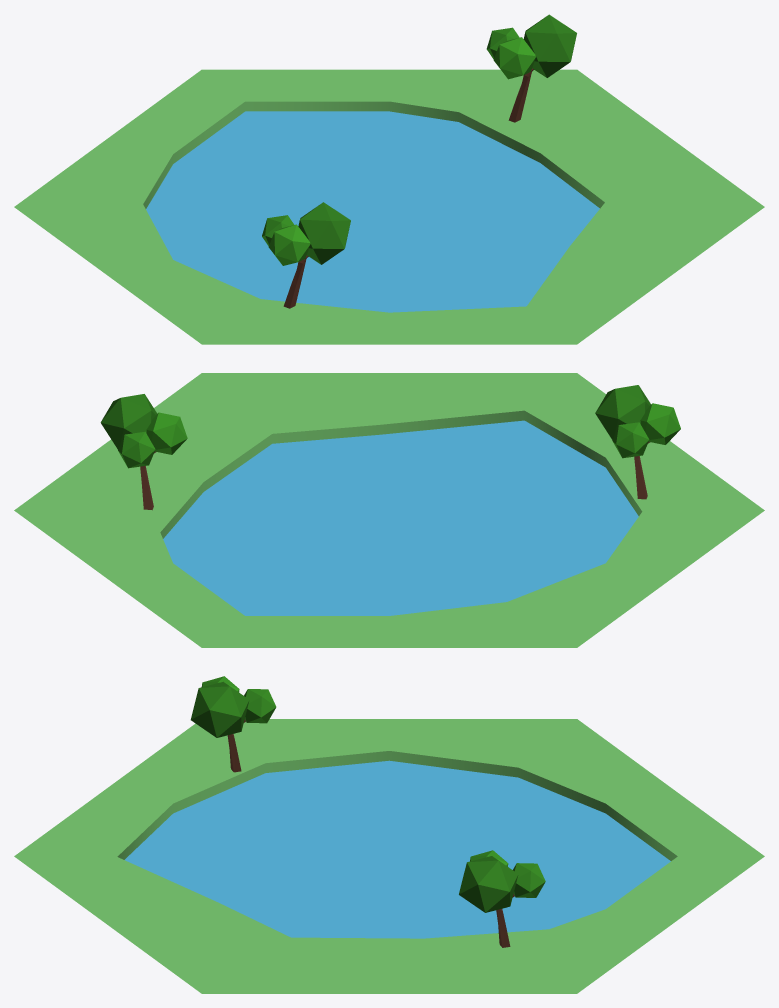
The model's file is lake.fbx.
The picture shows the model from 3 angles, top to bottom: view 1: azimuth 30°, elevation 25°; view 2: azimuth 150°, elevation 25°; view 3: azimuth 270°, elevation 25°; orthographic projection.
Visible parts, largest first — view 1: Circle; view 2: Circle; view 3: Circle.
Boxes of the visible parts, box(x1,y1,x2,y2) form: Circle: box(14, 14, 764, 344); Circle: box(14, 373, 764, 647); Circle: box(14, 676, 764, 993).
Size of the model in its own units: 17.32 by 20 by 3.24.
